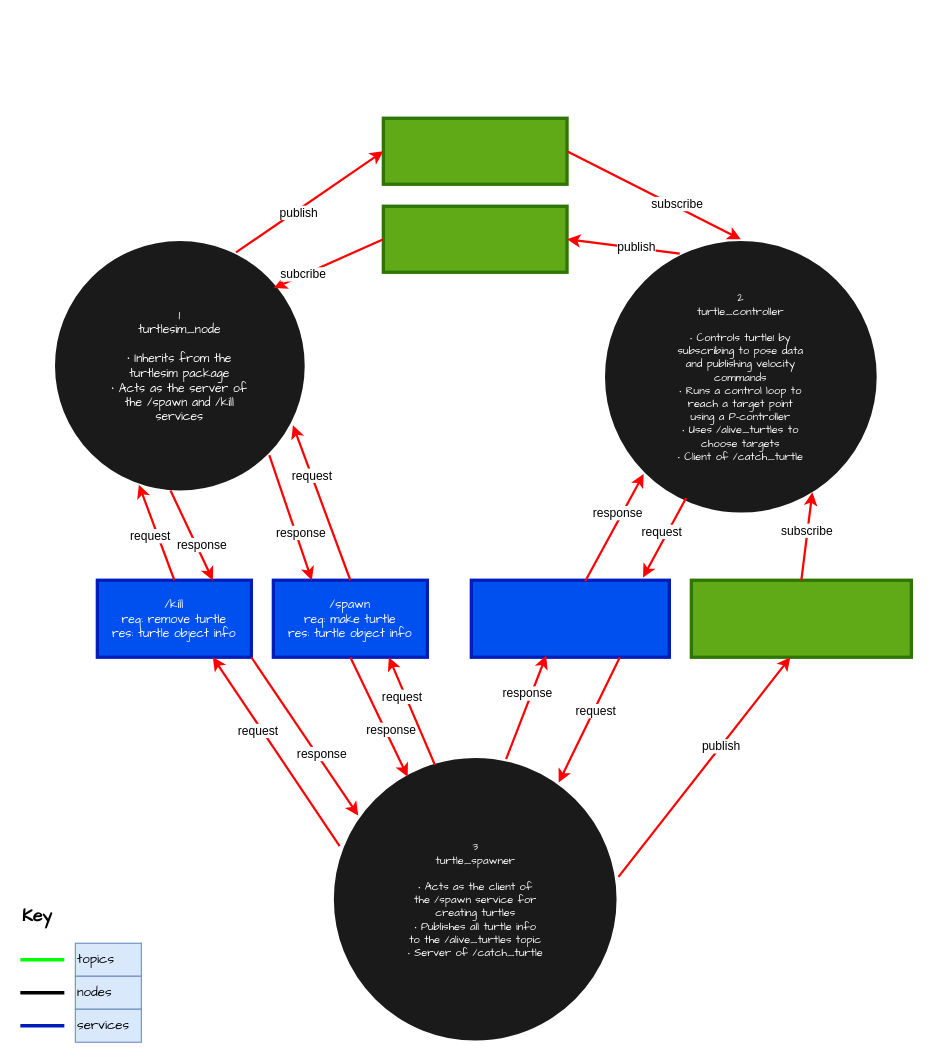
Image size: 932x1063. Some labels were removed from this diagram. Each missing label, with the centre of its shape:
"/alive_turtles list of currently alive turtles and their coordinates" goes at point 800,618.
"/catch_turtle req: turtle has been caught res: remove receipt" goes at point 569,618.
"/turtle1/cmd_vel Velocity commands" goes at point 474,238.
"/turtle1/pose Pose data" goes at point 474,150.
